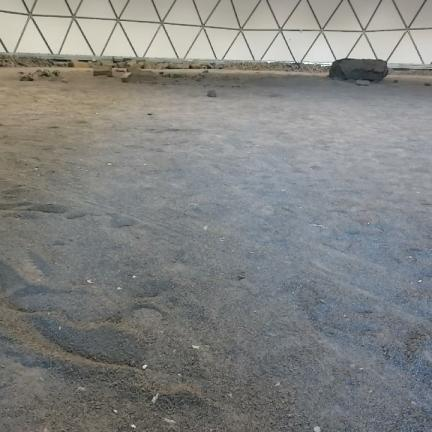Rock: (329, 59, 388, 80), (93, 65, 112, 77), (70, 60, 91, 67), (121, 72, 131, 82), (126, 59, 137, 68), (101, 60, 114, 67), (356, 80, 370, 85), (207, 90, 217, 97), (135, 62, 146, 68), (20, 75, 33, 80), (43, 69, 51, 77), (117, 62, 126, 67), (116, 69, 125, 73), (52, 71, 59, 76), (172, 74, 180, 78), (161, 74, 170, 77), (62, 78, 67, 82), (203, 70, 208, 73), (425, 83, 431, 85), (394, 80, 398, 83), (159, 72, 163, 74)
